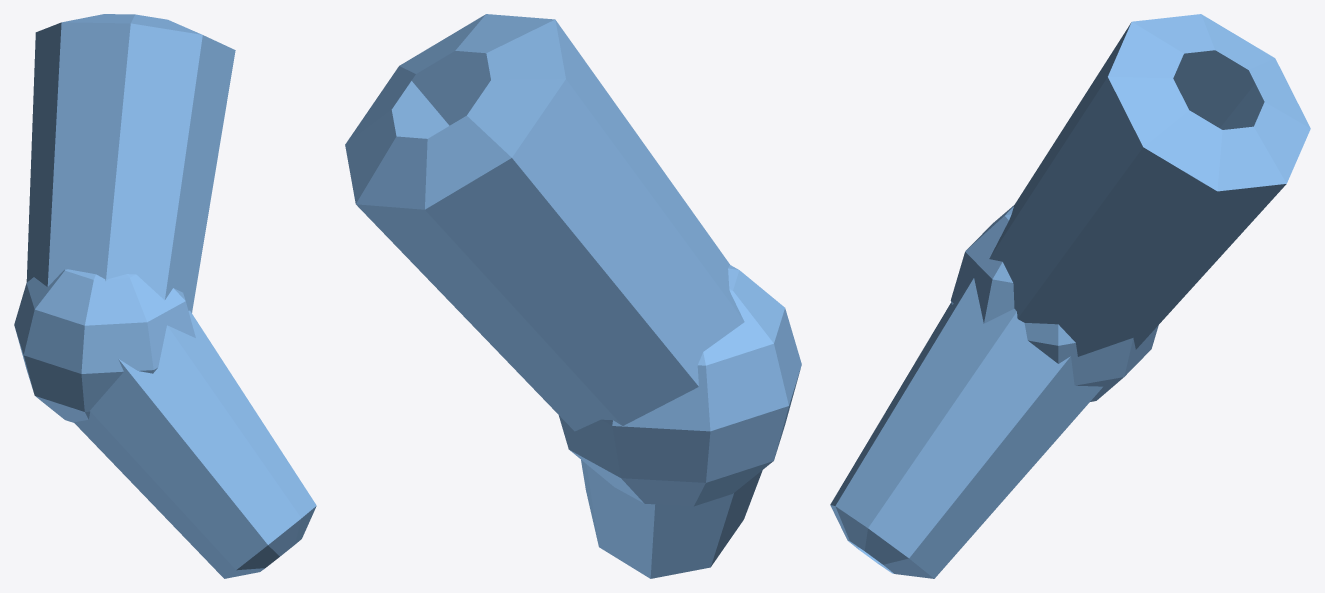
File: frost_lich_sleeve_L.obj
3 views of the same model, side by side, from view 1: azimuth 30°, elevation 25°; view 2: azimuth 150°, elevation 25°; view 3: azimuth 270°, elevation 25° (orthographic). The views are drawn at different scales.
Visible parts, largest first — view 1: sleeve_upper_L, sleeve_lower_L, sleeve_joint_L; view 2: sleeve_upper_L, sleeve_joint_L, sleeve_lower_L; view 3: sleeve_upper_L, sleeve_lower_L, sleeve_joint_L.
Part boxes in pixels (x1,y1,x2,y2): sleeve_upper_L: (26, 14, 235, 312); sleeve_lower_L: (74, 310, 316, 578); sleeve_joint_L: (14, 269, 195, 422); sleeve_upper_L: (345, 14, 744, 431); sleeve_joint_L: (558, 265, 801, 506); sleeve_lower_L: (581, 460, 762, 578); sleeve_upper_L: (989, 14, 1310, 356); sleeve_lower_L: (830, 278, 1102, 578); sleeve_joint_L: (950, 205, 1158, 401).
Bounding box in the file's own units: 0.4752 × 0.8537 × 0.6819.
